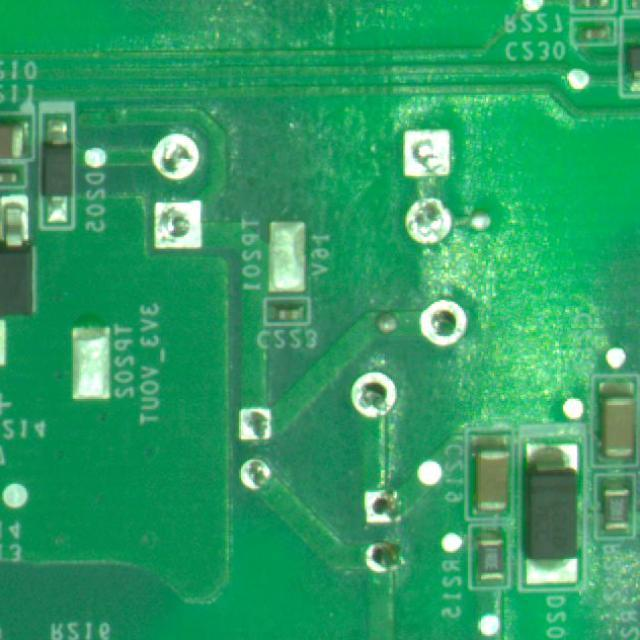Insufficient solder: (148, 190, 228, 260), (402, 116, 459, 186), (418, 290, 480, 354), (400, 187, 460, 251), (158, 126, 218, 190), (352, 532, 422, 584), (352, 362, 396, 423), (349, 484, 404, 532), (232, 404, 282, 450), (225, 452, 278, 494)
